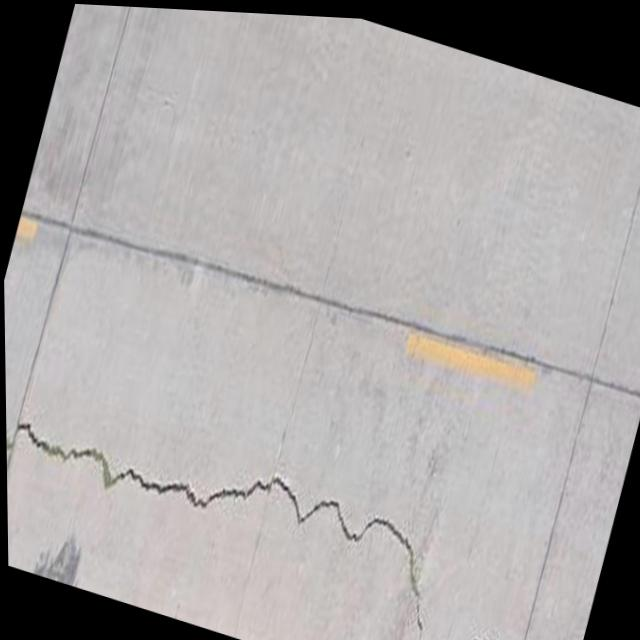Crack: (4, 359, 452, 607), (378, 583, 579, 640)
